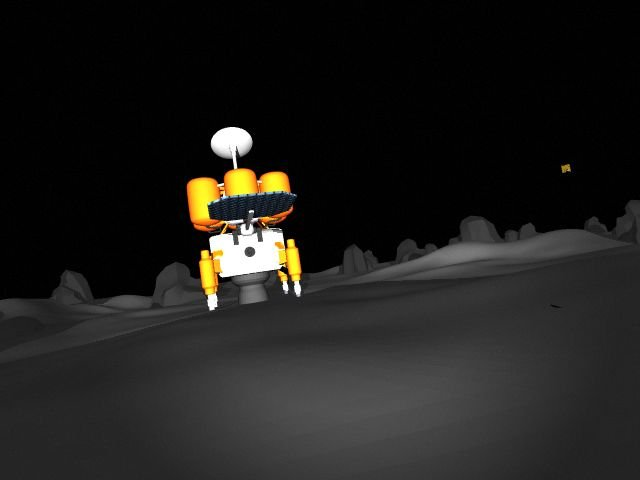homebase: (185, 124, 305, 313)
